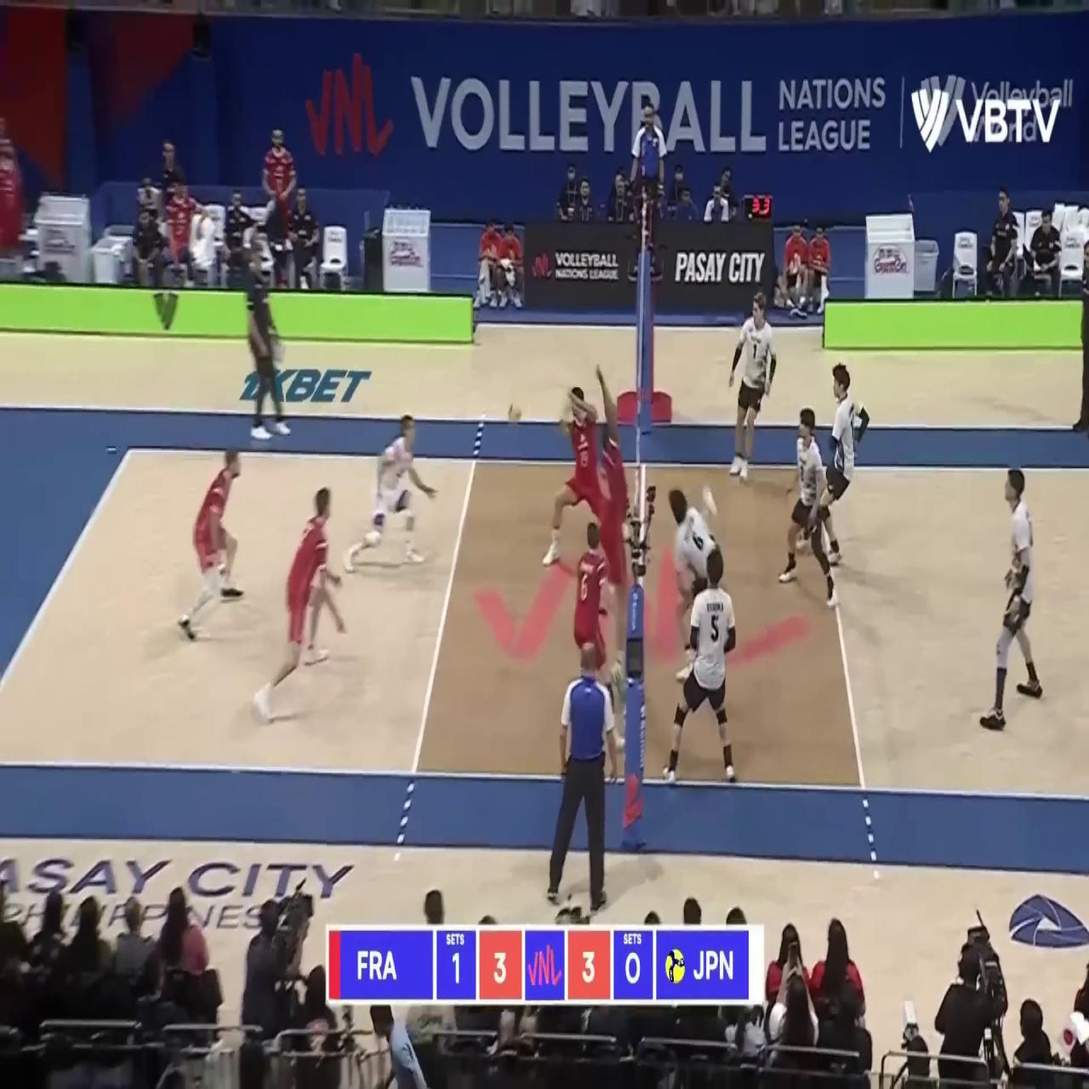ball: (507, 401, 523, 420)
